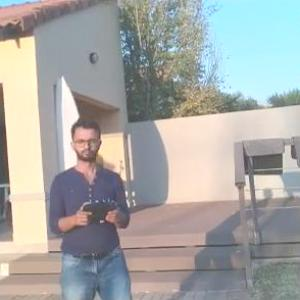follow: (46, 114, 141, 299)
